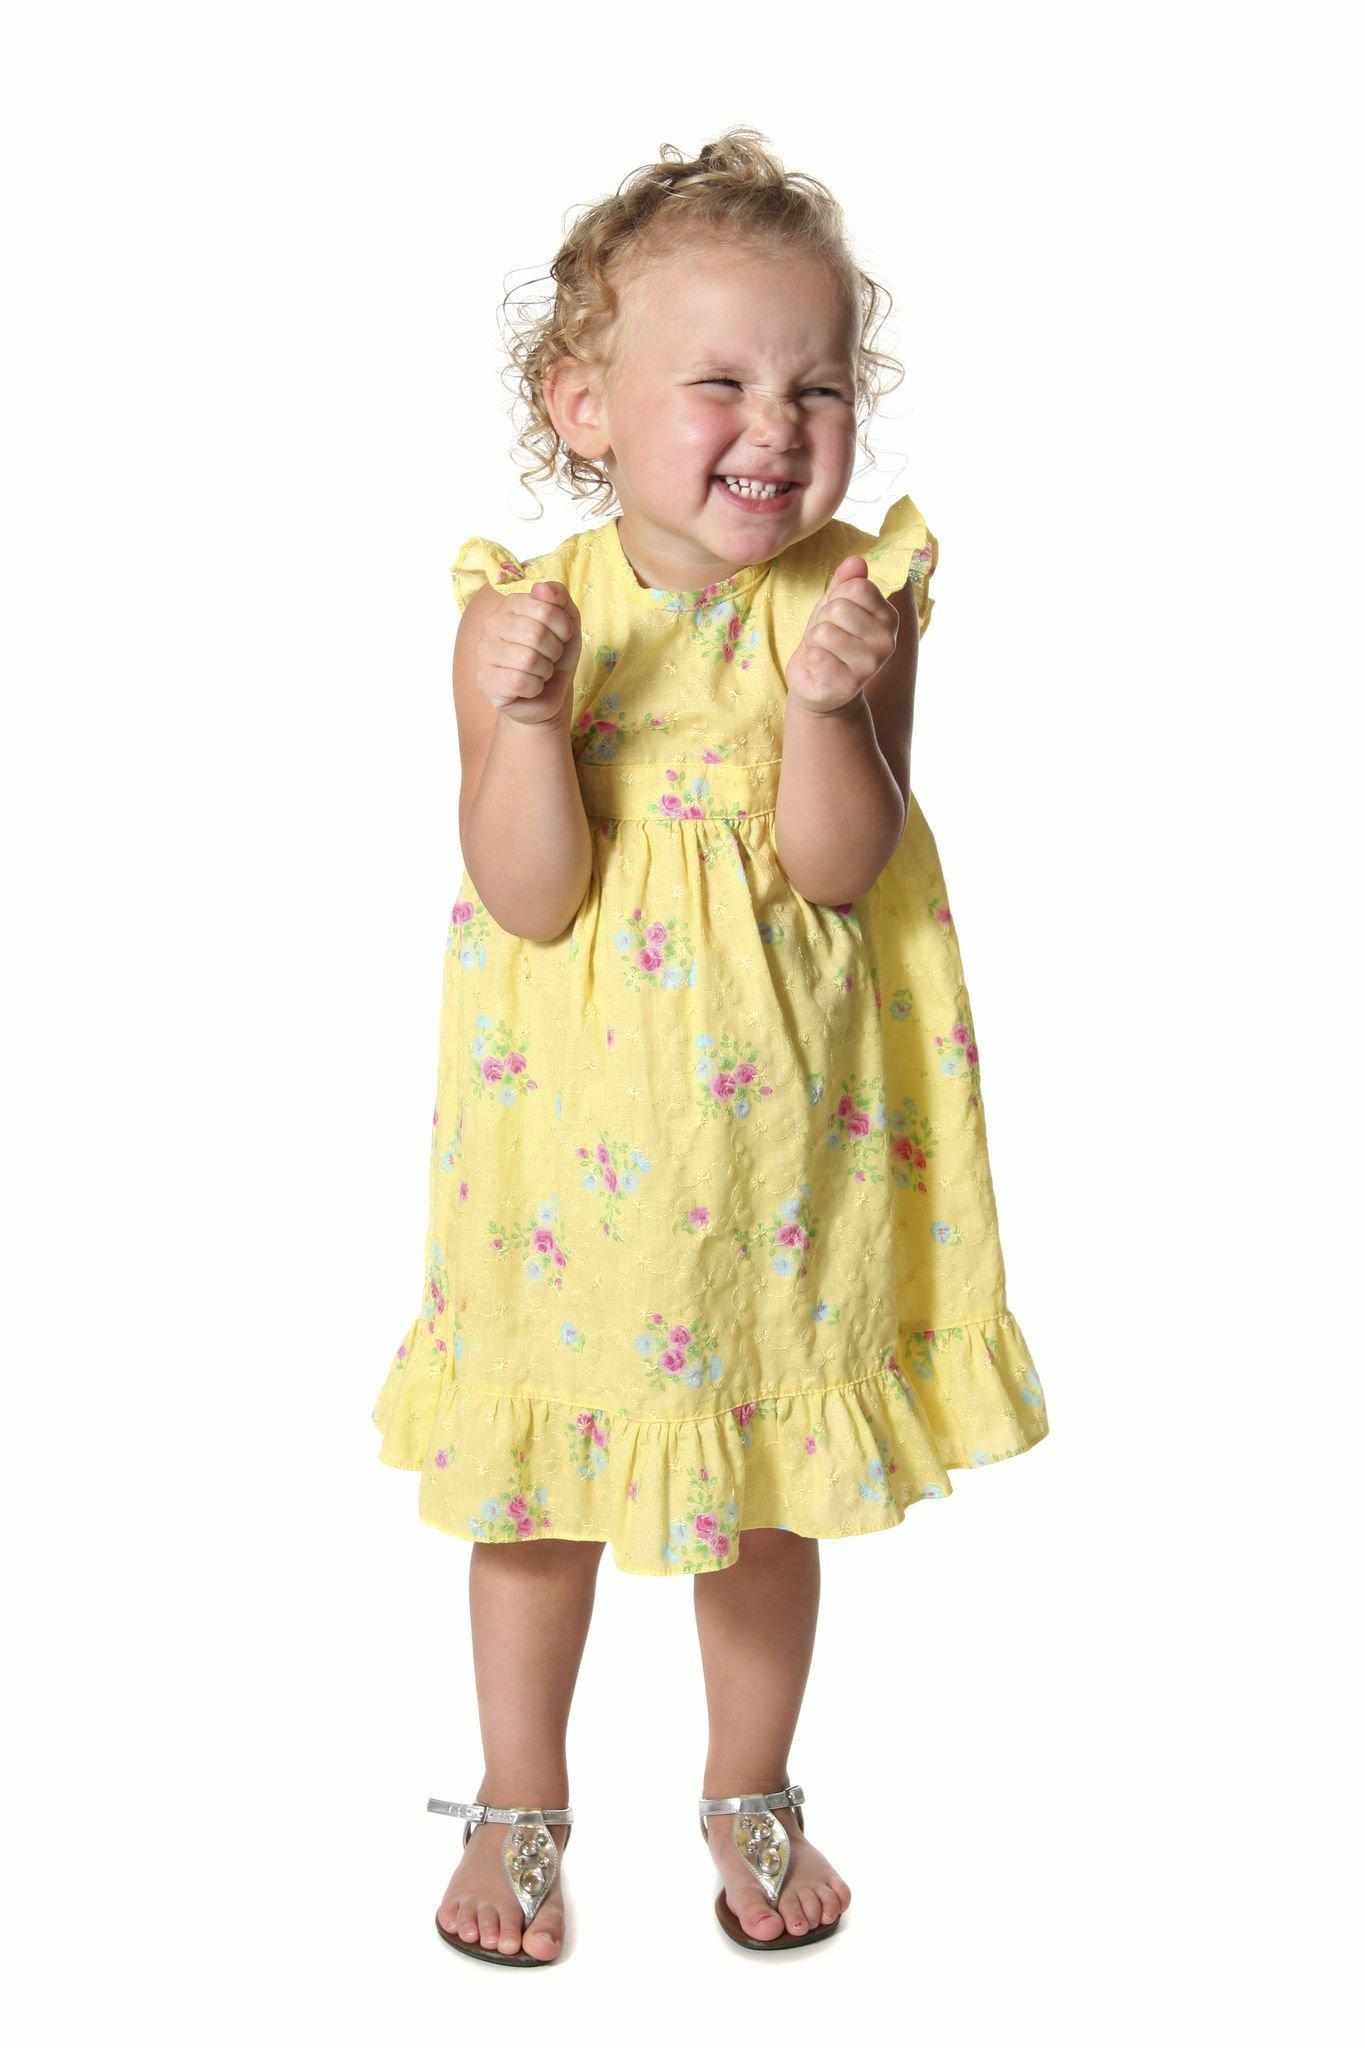Healthy: (564, 148, 896, 589)
